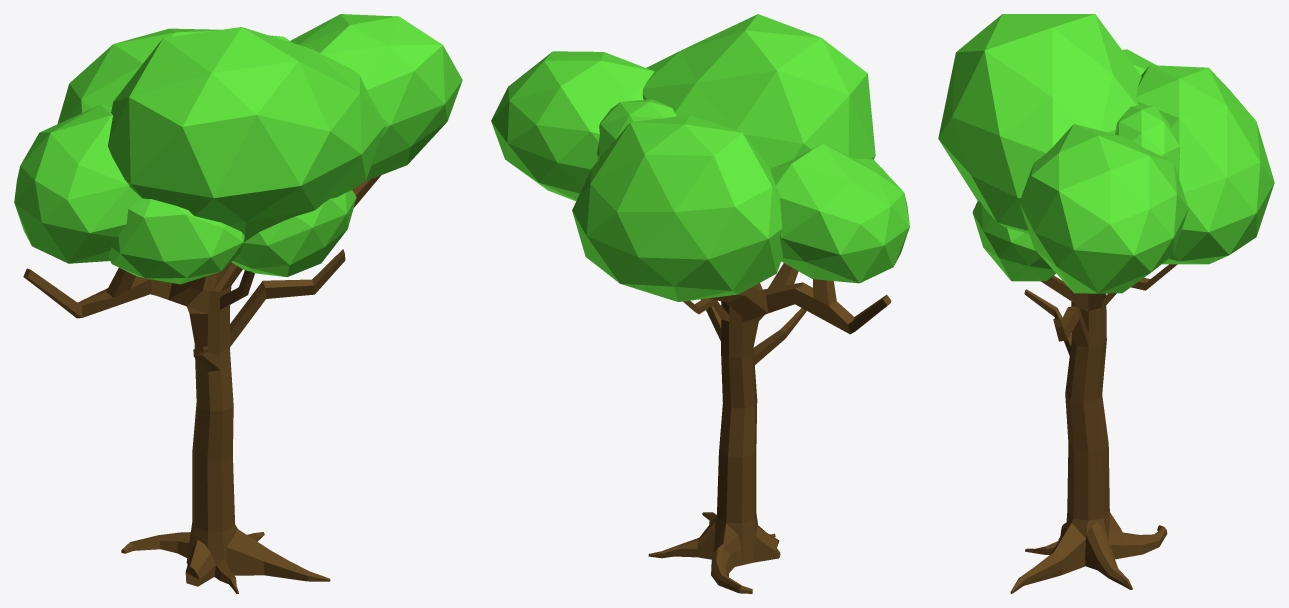
Rendered from T_ancientTree.fbx.
The picture shows the model from 3 angles, left to right: view 1: azimuth 30°, elevation 25°; view 2: azimuth 150°, elevation 25°; view 3: azimuth 270°, elevation 25°; orthographic projection. The views are drawn at different scales.
Visible parts, largest first — view 1: Icosphere, Cylinder; view 2: Icosphere, Cylinder; view 3: Icosphere, Cylinder.
Part boxes in pixels (bbox=[...]): Icosphere: bbox=[14, 14, 462, 284]; Cylinder: bbox=[23, 175, 380, 593]; Icosphere: bbox=[491, 14, 909, 301]; Cylinder: bbox=[648, 263, 891, 593]; Icosphere: bbox=[938, 14, 1274, 293]; Cylinder: bbox=[1010, 264, 1177, 593].
Bounding box in the file's own units: 1986 × 2502 × 1427.
